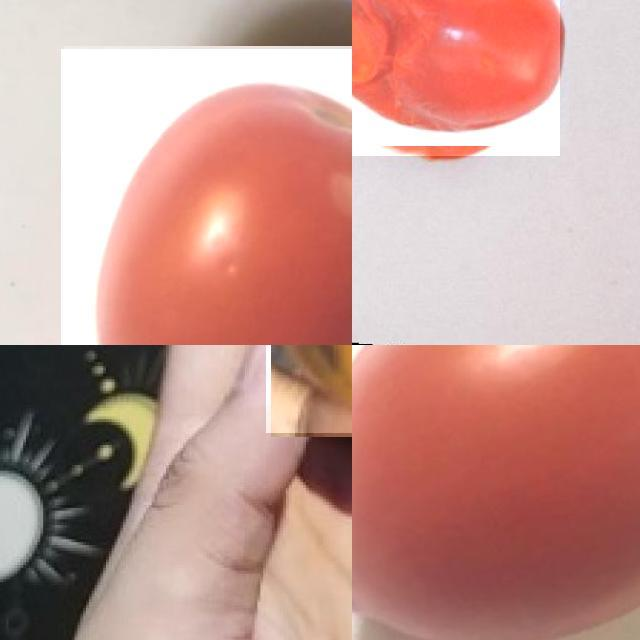Fresh Tomato: (61, 48, 352, 345), (352, 345, 640, 640)
Rotten Tomato: (352, 0, 559, 155)
